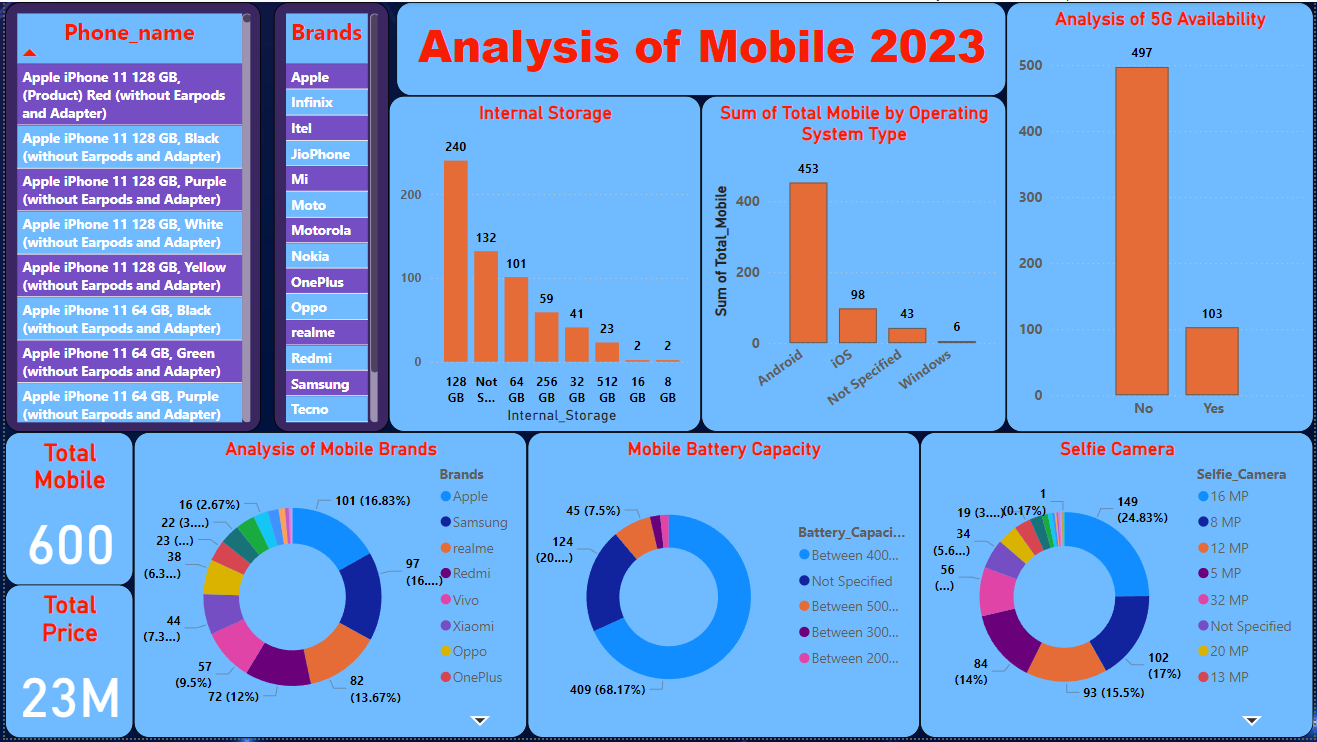

What the dashboard file says about the page in this screenshot:
{"tool":"powerbi","page":{"name":"Page 1","canvas":[1280,720],"ordinal":0},"visuals":[{"type":"card","title":"Total Mobile","fields":{"Values":["Sum(mobile_company mobile.Total_Mobile)"]},"box":[0,420.5,125.9,150.4],"z":0},{"type":"tableEx","fields":{"Values":["mobile_company mobile.Phone_name"]},"box":[0,0,250.6,420.5],"z":1000},{"type":"tableEx","fields":{"Values":["mobile_company mobile.Brands"]},"box":[262.8,0,112.5,420.5],"z":2000},{"type":"clusteredColumnChart","title":"Sum of Total Mobile by Operating System Type","fields":{"Category":["mobile_company mobile.Operating_System_Type"],"Y":["Sum(mobile_company mobile.Total_Mobile)"]},"box":[680.9,91.7,298.3,328.8],"z":3000},{"type":"donutChart","title":"Mobile Battery Capacity","fields":{"Category":["mobile_company mobile.Battery_Capacity_Range"],"Y":["Sum(mobile_company mobile.Total_Mobile)"]},"box":[511,420.5,383.8,299.5],"z":4000},{"type":"columnChart","title":"Analysis of 5G Availability","fields":{"Category":["mobile_company mobile.5G_Availability"],"Y":["Sum(mobile_company mobile.Total_Mobile)"]},"box":[979.2,0,300.7,420.5],"z":5000},{"type":"donutChart","title":"Analysis of Mobile Brands","fields":{"Y":["Sum(mobile_company mobile.Total_Mobile)"],"Category":["mobile_company mobile.Brands"]},"box":[125.9,420.5,385.1,299.5],"z":6000},{"type":"columnChart","title":"Internal Storage","fields":{"Category":["mobile_company mobile.Internal_Storage"],"Y":["Sum(mobile_company mobile.Total_Mobile)"]},"box":[375.3,91.7,305.6,328.8],"z":7000},{"type":"donutChart","title":"Selfie Camera","fields":{"Y":["Sum(mobile_company mobile.Total_Mobile)"],"Category":["mobile_company mobile.Selfie_Camera"]},"box":[894.8,420.5,385.1,299.5],"z":8000},{"type":"textbox","box":[382.6,0,596.5,91.7],"z":9000},{"type":"card","title":"Total Price","fields":{"Values":["Sum(mobile_company mobile.Price)"]},"box":[0,569.6,125.9,150.4],"z":9001}]}

Visuals, with their boxes in screenshot pixels (x1, y1, x2, y2), scaled from the page's 1280x720 canvas onto the 1317x742 screenshot:
"Total Mobile" card: 0, 433, 130, 588
tableEx - mobile_company mobile.Phone_name: 0, 0, 258, 433
tableEx - mobile_company mobile.Brands: 270, 0, 386, 433
"Sum of Total Mobile by Operating System Type" clusteredColumnChart: 701, 95, 1008, 433
"Mobile Battery Capacity" donutChart: 526, 433, 921, 741
"Analysis of 5G Availability" columnChart: 1008, 0, 1316, 433
"Analysis of Mobile Brands" donutChart: 130, 433, 526, 741
"Internal Storage" columnChart: 386, 95, 701, 433
"Selfie Camera" donutChart: 921, 433, 1316, 741
textbox: 394, 0, 1007, 95
"Total Price" card: 0, 587, 130, 741
